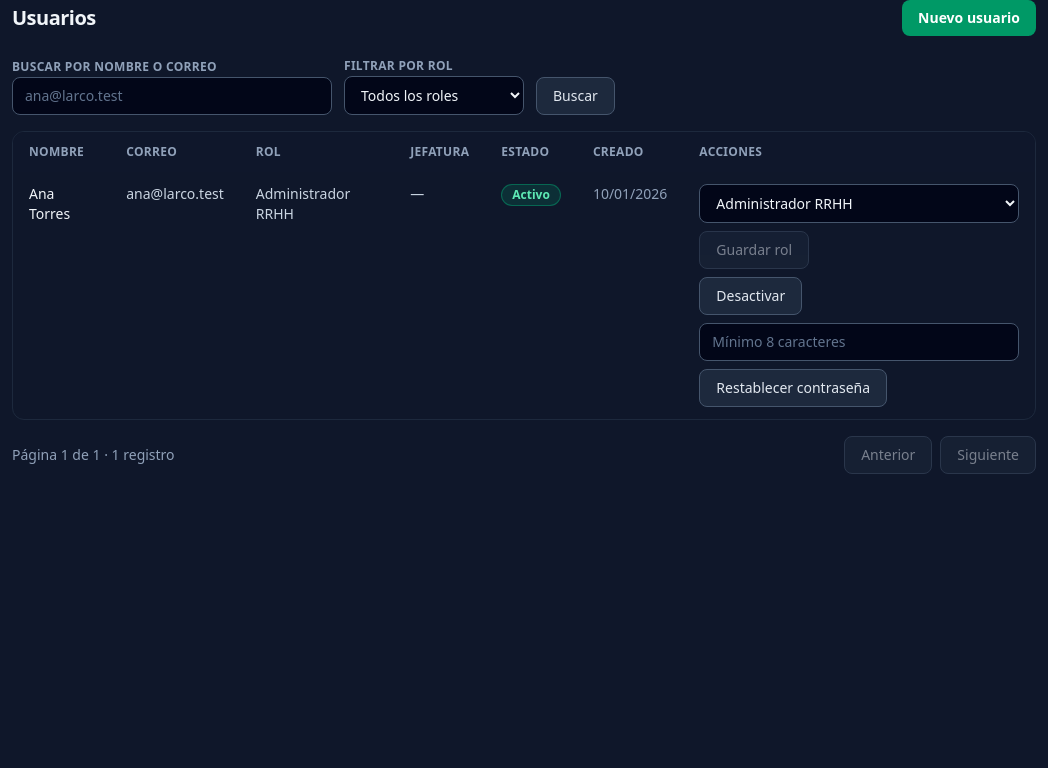
Test: listado de usuarios (gestión exclusiva del superusuario) › cambiar el rol de otro usuario envía PATCH al endpoint correcto y avisa
Expected: the text "Ana Torres" is shown, [13, 172, 110, 419]
Select "Superusuario (IT)" in the dropdown named "Nuevo rol de Ana Torres" at (859, 204), box [699, 184, 1019, 223]
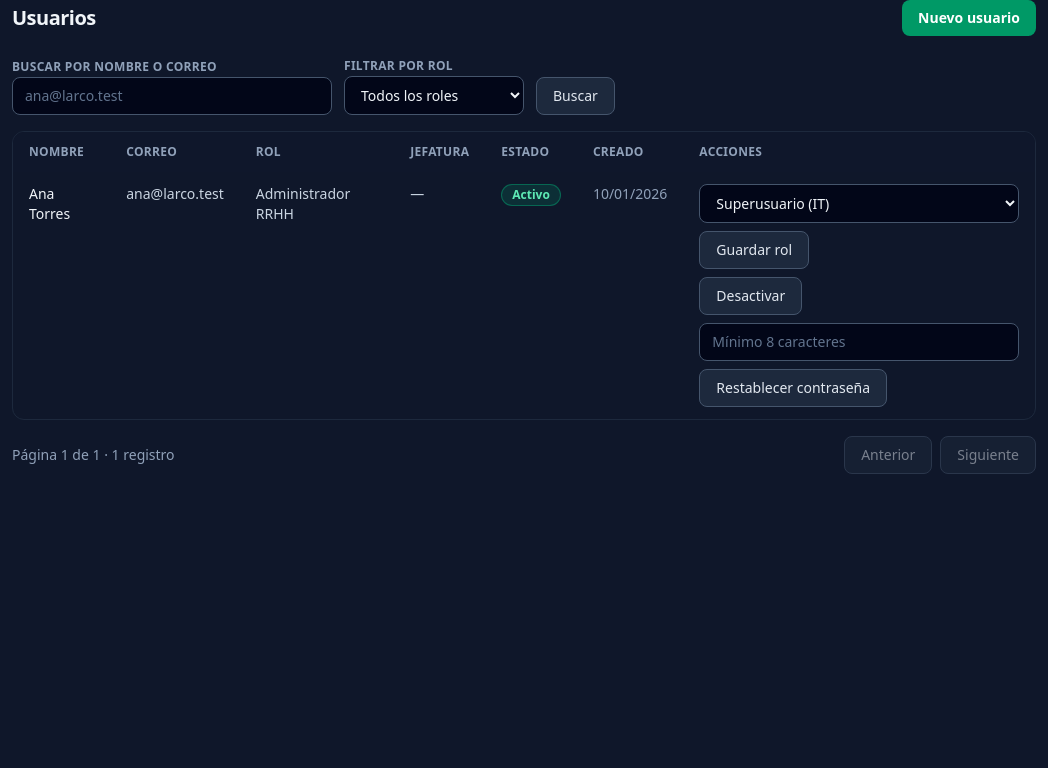
Click the button named "Guardar rol de Ana Torres".
click(754, 250)  # box [699, 231, 809, 269]
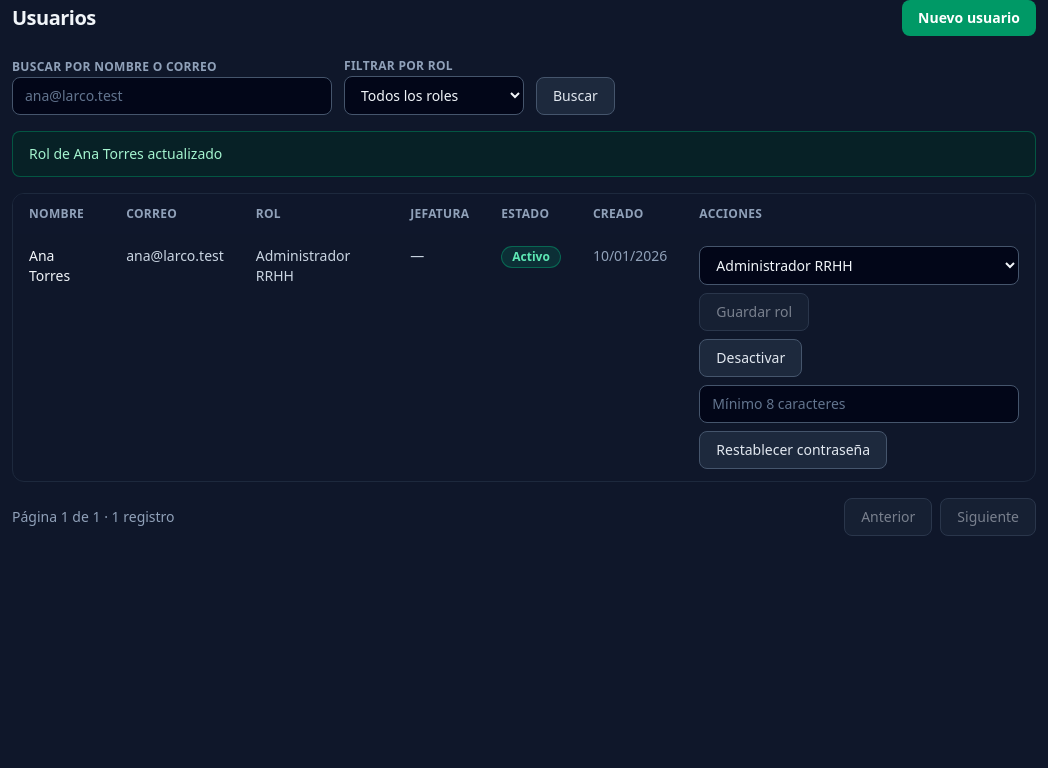
Now the message reads "Rol de Ana Torres actualizado", box [29, 144, 222, 163]
